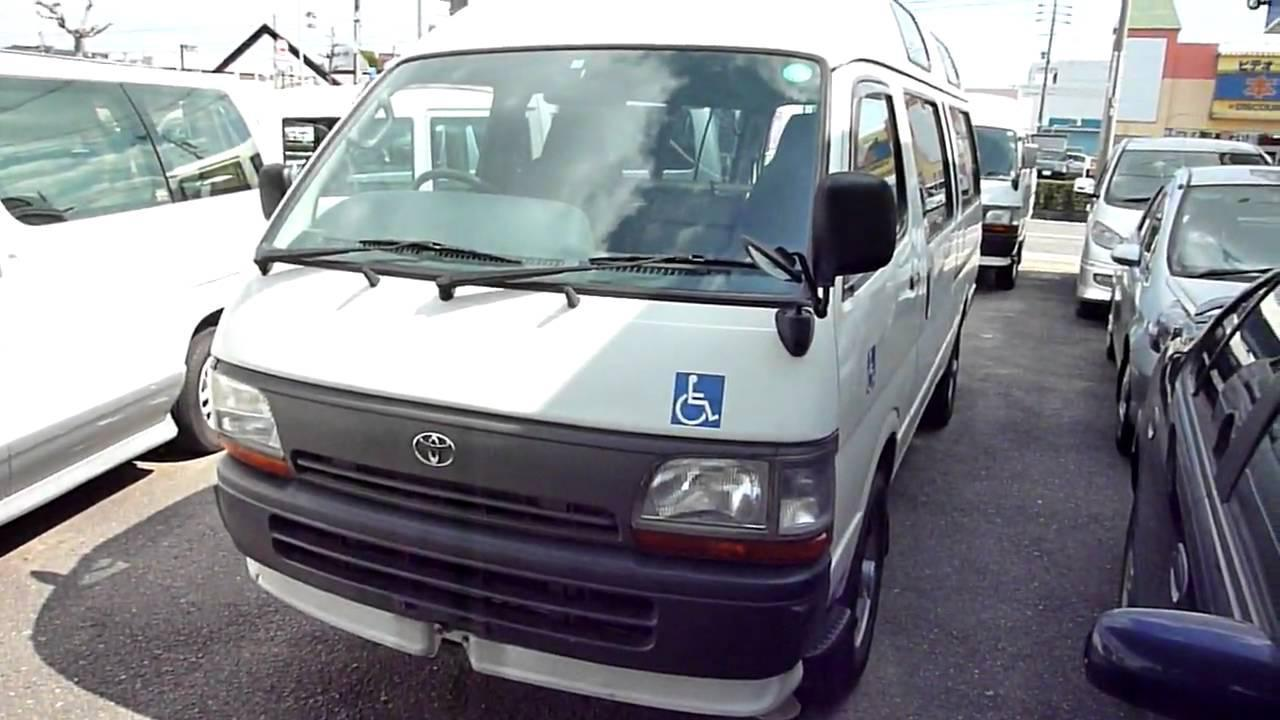Van: (187, 0, 1026, 702)
